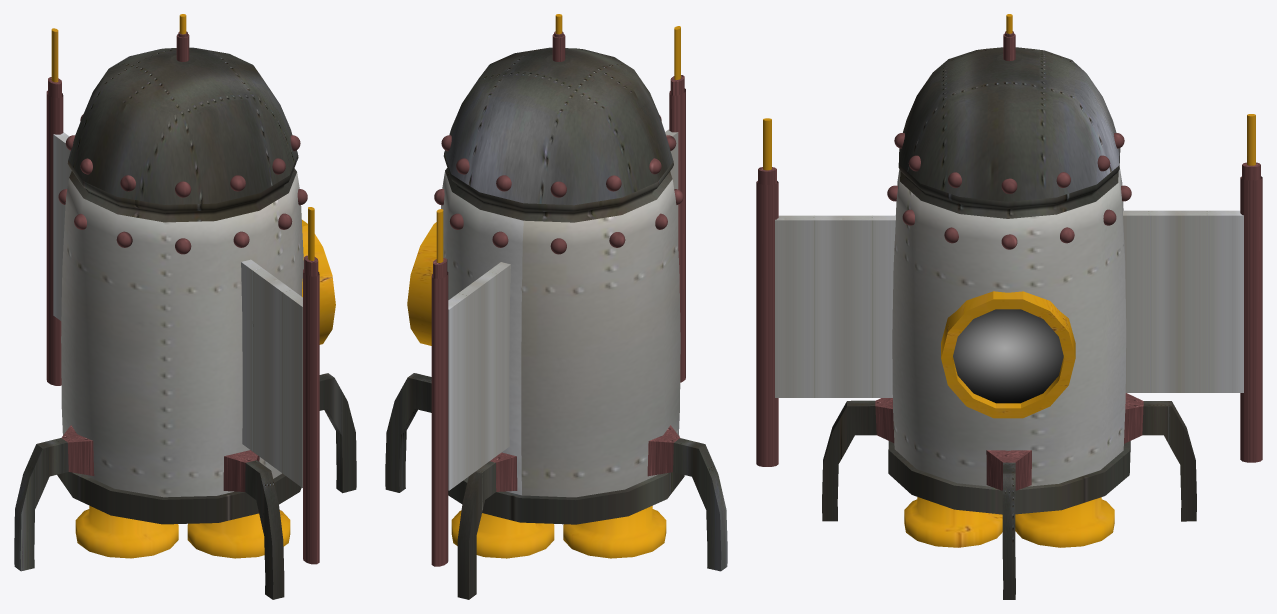
File: Rocket.fbx
3 views of the same model, side by side, from view 1: azimuth 30°, elevation 25°; view 2: azimuth 150°, elevation 25°; view 3: azimuth 270°, elevation 25° (orthographic). The views are drawn at different scales.
Parts seen in each view (by area): view 1: Rocket; view 2: Rocket; view 3: Rocket.
Part boxes in pixels (box(x1,y1,x2,y2)): Rocket: box(14, 14, 356, 599); Rocket: box(385, 14, 727, 599); Rocket: box(756, 14, 1262, 599).
Bounding box in the file's own units: 199 × 290 × 264.
1 material, 1 textured.
